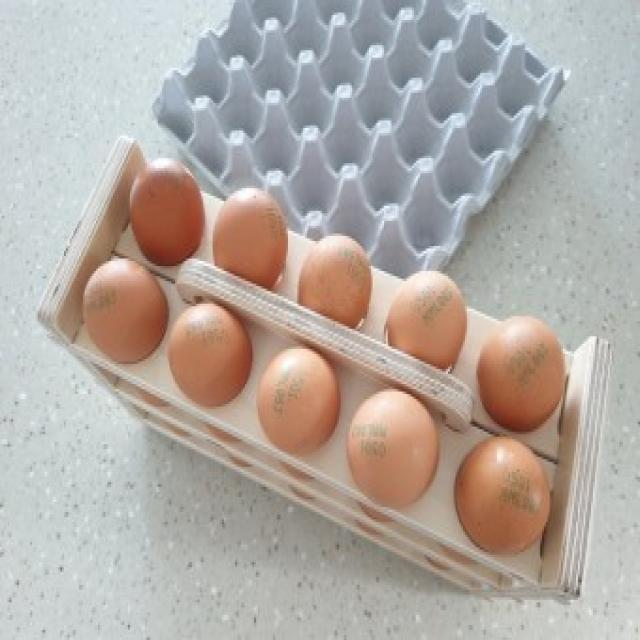eggs: (456, 433, 558, 559), (473, 312, 570, 439), (341, 390, 438, 507), (254, 344, 346, 458), (78, 261, 169, 371), (382, 267, 469, 380), (127, 157, 211, 271), (208, 183, 290, 297), (171, 303, 255, 406), (292, 234, 374, 331)
